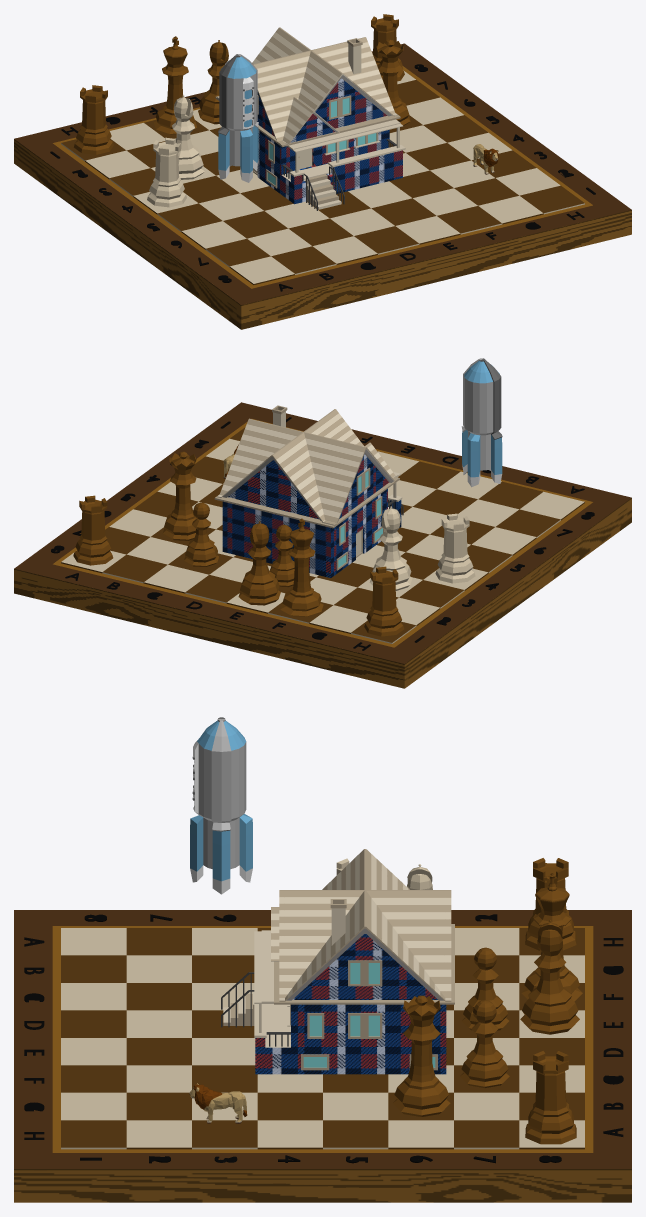
The picture shows the model from 3 angles, top to bottom: view 1: azimuth 30°, elevation 25°; view 2: azimuth 150°, elevation 25°; view 3: azimuth 270°, elevation 25°; orthographic projection. The views are drawn at different scales.
Visible parts, largest first — view 1: Cube.002, Cube.171, OBJRANDOM_ROCKETSHIP, ANIMAL_LEON; view 2: Cube.002, Cube.171, OBJRANDOM_ROCKETSHIP; view 3: Cube.002, Cube.171, OBJRANDOM_ROCKETSHIP, ANIMAL_LEON.
Boxes of the visible parts, x1,y1,x2,y2 form: Cube.002: (14,14,631,329); Cube.171: (215,27,405,210); OBJRANDOM_ROCKETSHIP: (218,54,258,182); ANIMAL_LEON: (473,144,498,174); Cube.002: (14,402,631,688); Cube.171: (214,405,403,577); OBJRANDOM_ROCKETSHIP: (461,358,502,487); Cube.002: (14,858,631,1202); Cube.171: (221,849,454,1074); OBJRANDOM_ROCKETSHIP: (190,717,252,894); ANIMAL_LEON: (189,1083,247,1123).
Bounding box in the file's own units: 3981 × 2037 × 4012.
31 materials, 3 textured.
